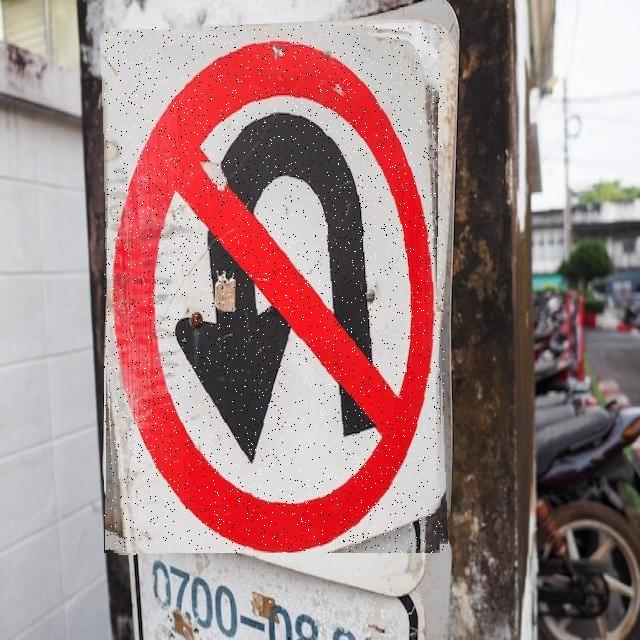no u turn: (104, 25, 444, 553)
